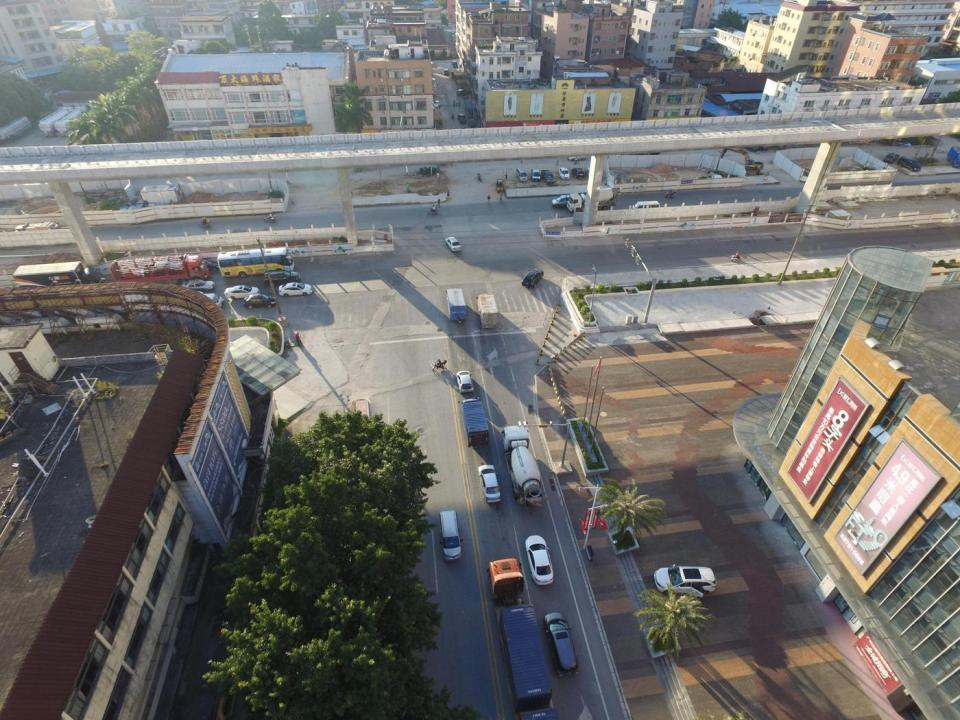bus: (216, 247, 296, 278)
car: (542, 611, 581, 677), (653, 563, 717, 599), (524, 534, 555, 586), (476, 462, 501, 504), (262, 270, 302, 286), (242, 293, 276, 310), (277, 281, 312, 297), (520, 267, 544, 290), (223, 285, 260, 299), (456, 370, 476, 394), (180, 280, 215, 291), (552, 194, 574, 209), (444, 235, 462, 253), (882, 152, 900, 164), (570, 167, 586, 180), (566, 153, 588, 161), (558, 165, 568, 180), (584, 165, 594, 179), (457, 113, 467, 124), (442, 68, 450, 76), (451, 59, 458, 66)
truck: (482, 557, 560, 720), (500, 424, 547, 510), (108, 252, 210, 287), (12, 260, 106, 296), (458, 396, 491, 448), (566, 187, 619, 214), (12, 222, 60, 244), (444, 287, 468, 323), (476, 293, 500, 329), (947, 145, 960, 168), (541, 168, 555, 184)
van: (438, 507, 463, 563), (898, 155, 922, 173), (630, 200, 661, 213), (515, 166, 528, 182), (530, 168, 542, 182)
